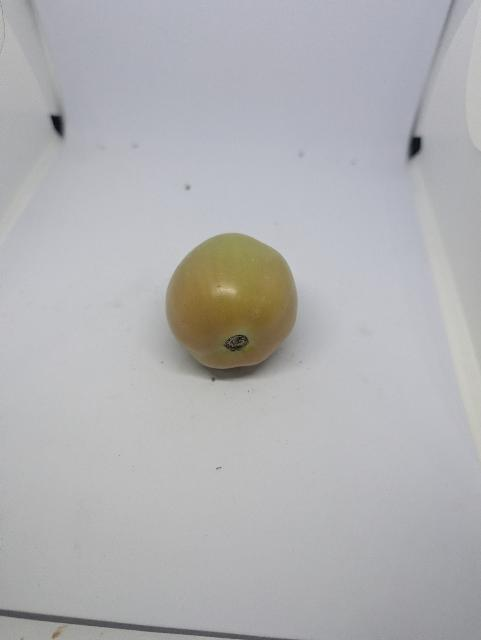breaker: (163, 228, 306, 373)
